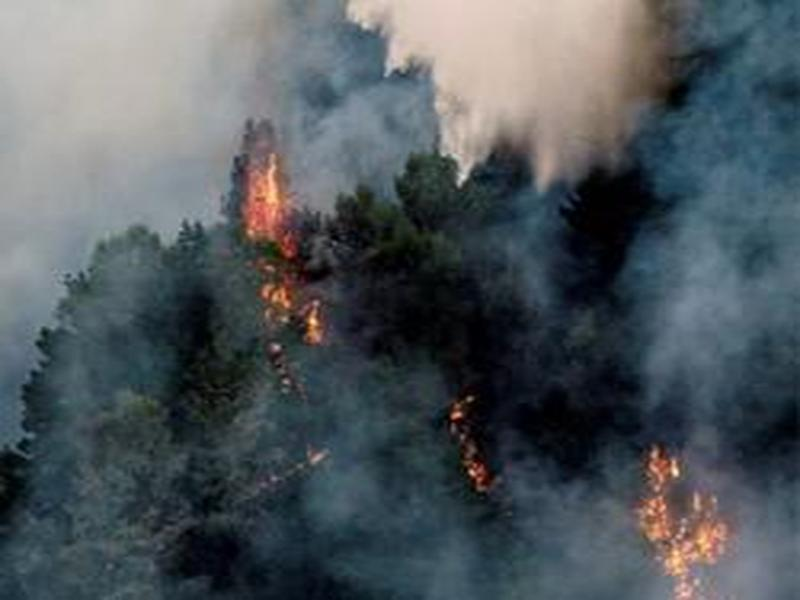FIRE: (141, 109, 774, 600)
